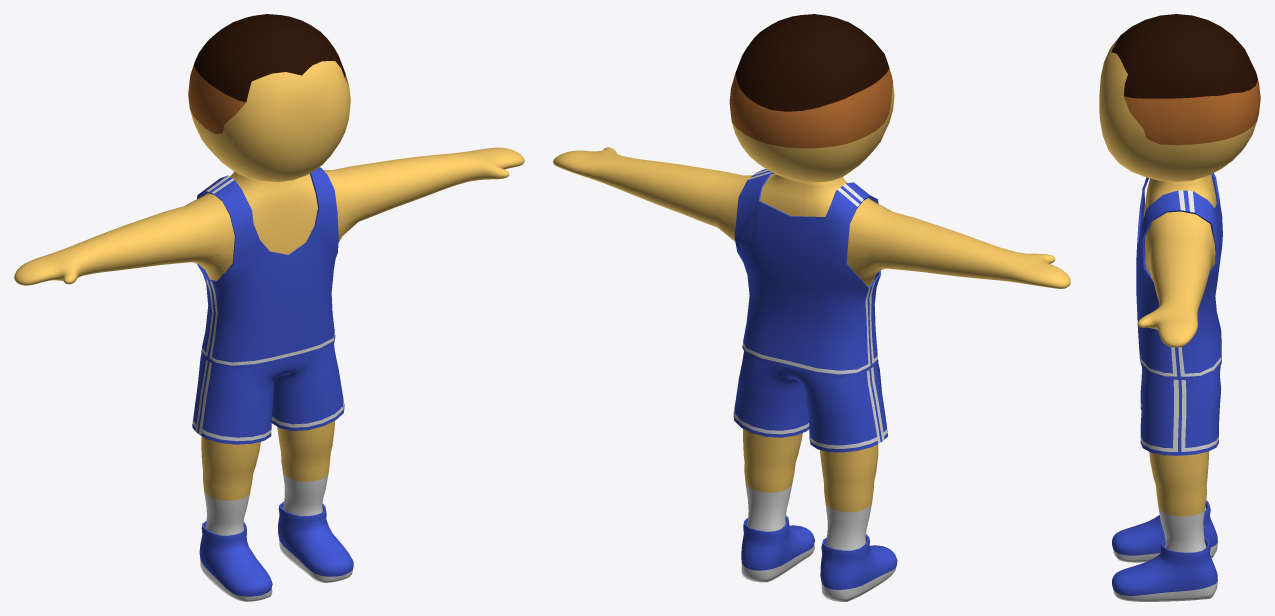
File: Character-4.fbx
3 renders of one model, left to right at view 1: azimuth 30°, elevation 25°; view 2: azimuth 150°, elevation 25°; view 3: azimuth 270°, elevation 25°, orthographic.
Parts seen in each view (by area): view 1: Cube.020, basketballer1-jersey, Cube.021, Cube.022, Cube.023; view 2: Cube.020, basketballer1-jersey, Cube.021, Cube.023, Cube.022; view 3: Cube.020, basketballer1-jersey, Cube.021, Cube.022, Cube.023.
Boxes of the visible parts, bbox=[...] form: Cube.020: bbox=[14, 14, 524, 535]; basketballer1-jersey: bbox=[197, 167, 338, 368]; Cube.021: bbox=[192, 344, 344, 444]; Cube.022: bbox=[278, 501, 353, 582]; Cube.023: bbox=[199, 521, 272, 601]; Cube.020: bbox=[553, 14, 1070, 550]; basketballer1-jersey: bbox=[734, 169, 880, 377]; Cube.021: bbox=[733, 351, 887, 452]; Cube.023: bbox=[820, 534, 897, 601]; Cube.022: bbox=[741, 515, 814, 582]; Cube.020: bbox=[1099, 14, 1260, 552]; basketballer1-jersey: bbox=[1136, 173, 1222, 379]; Cube.021: bbox=[1140, 365, 1221, 455]; Cube.022: bbox=[1112, 537, 1217, 601]; Cube.023: bbox=[1112, 500, 1217, 562].
Bounding box in the file's own units: 5.98 × 6.18 × 1.64.
